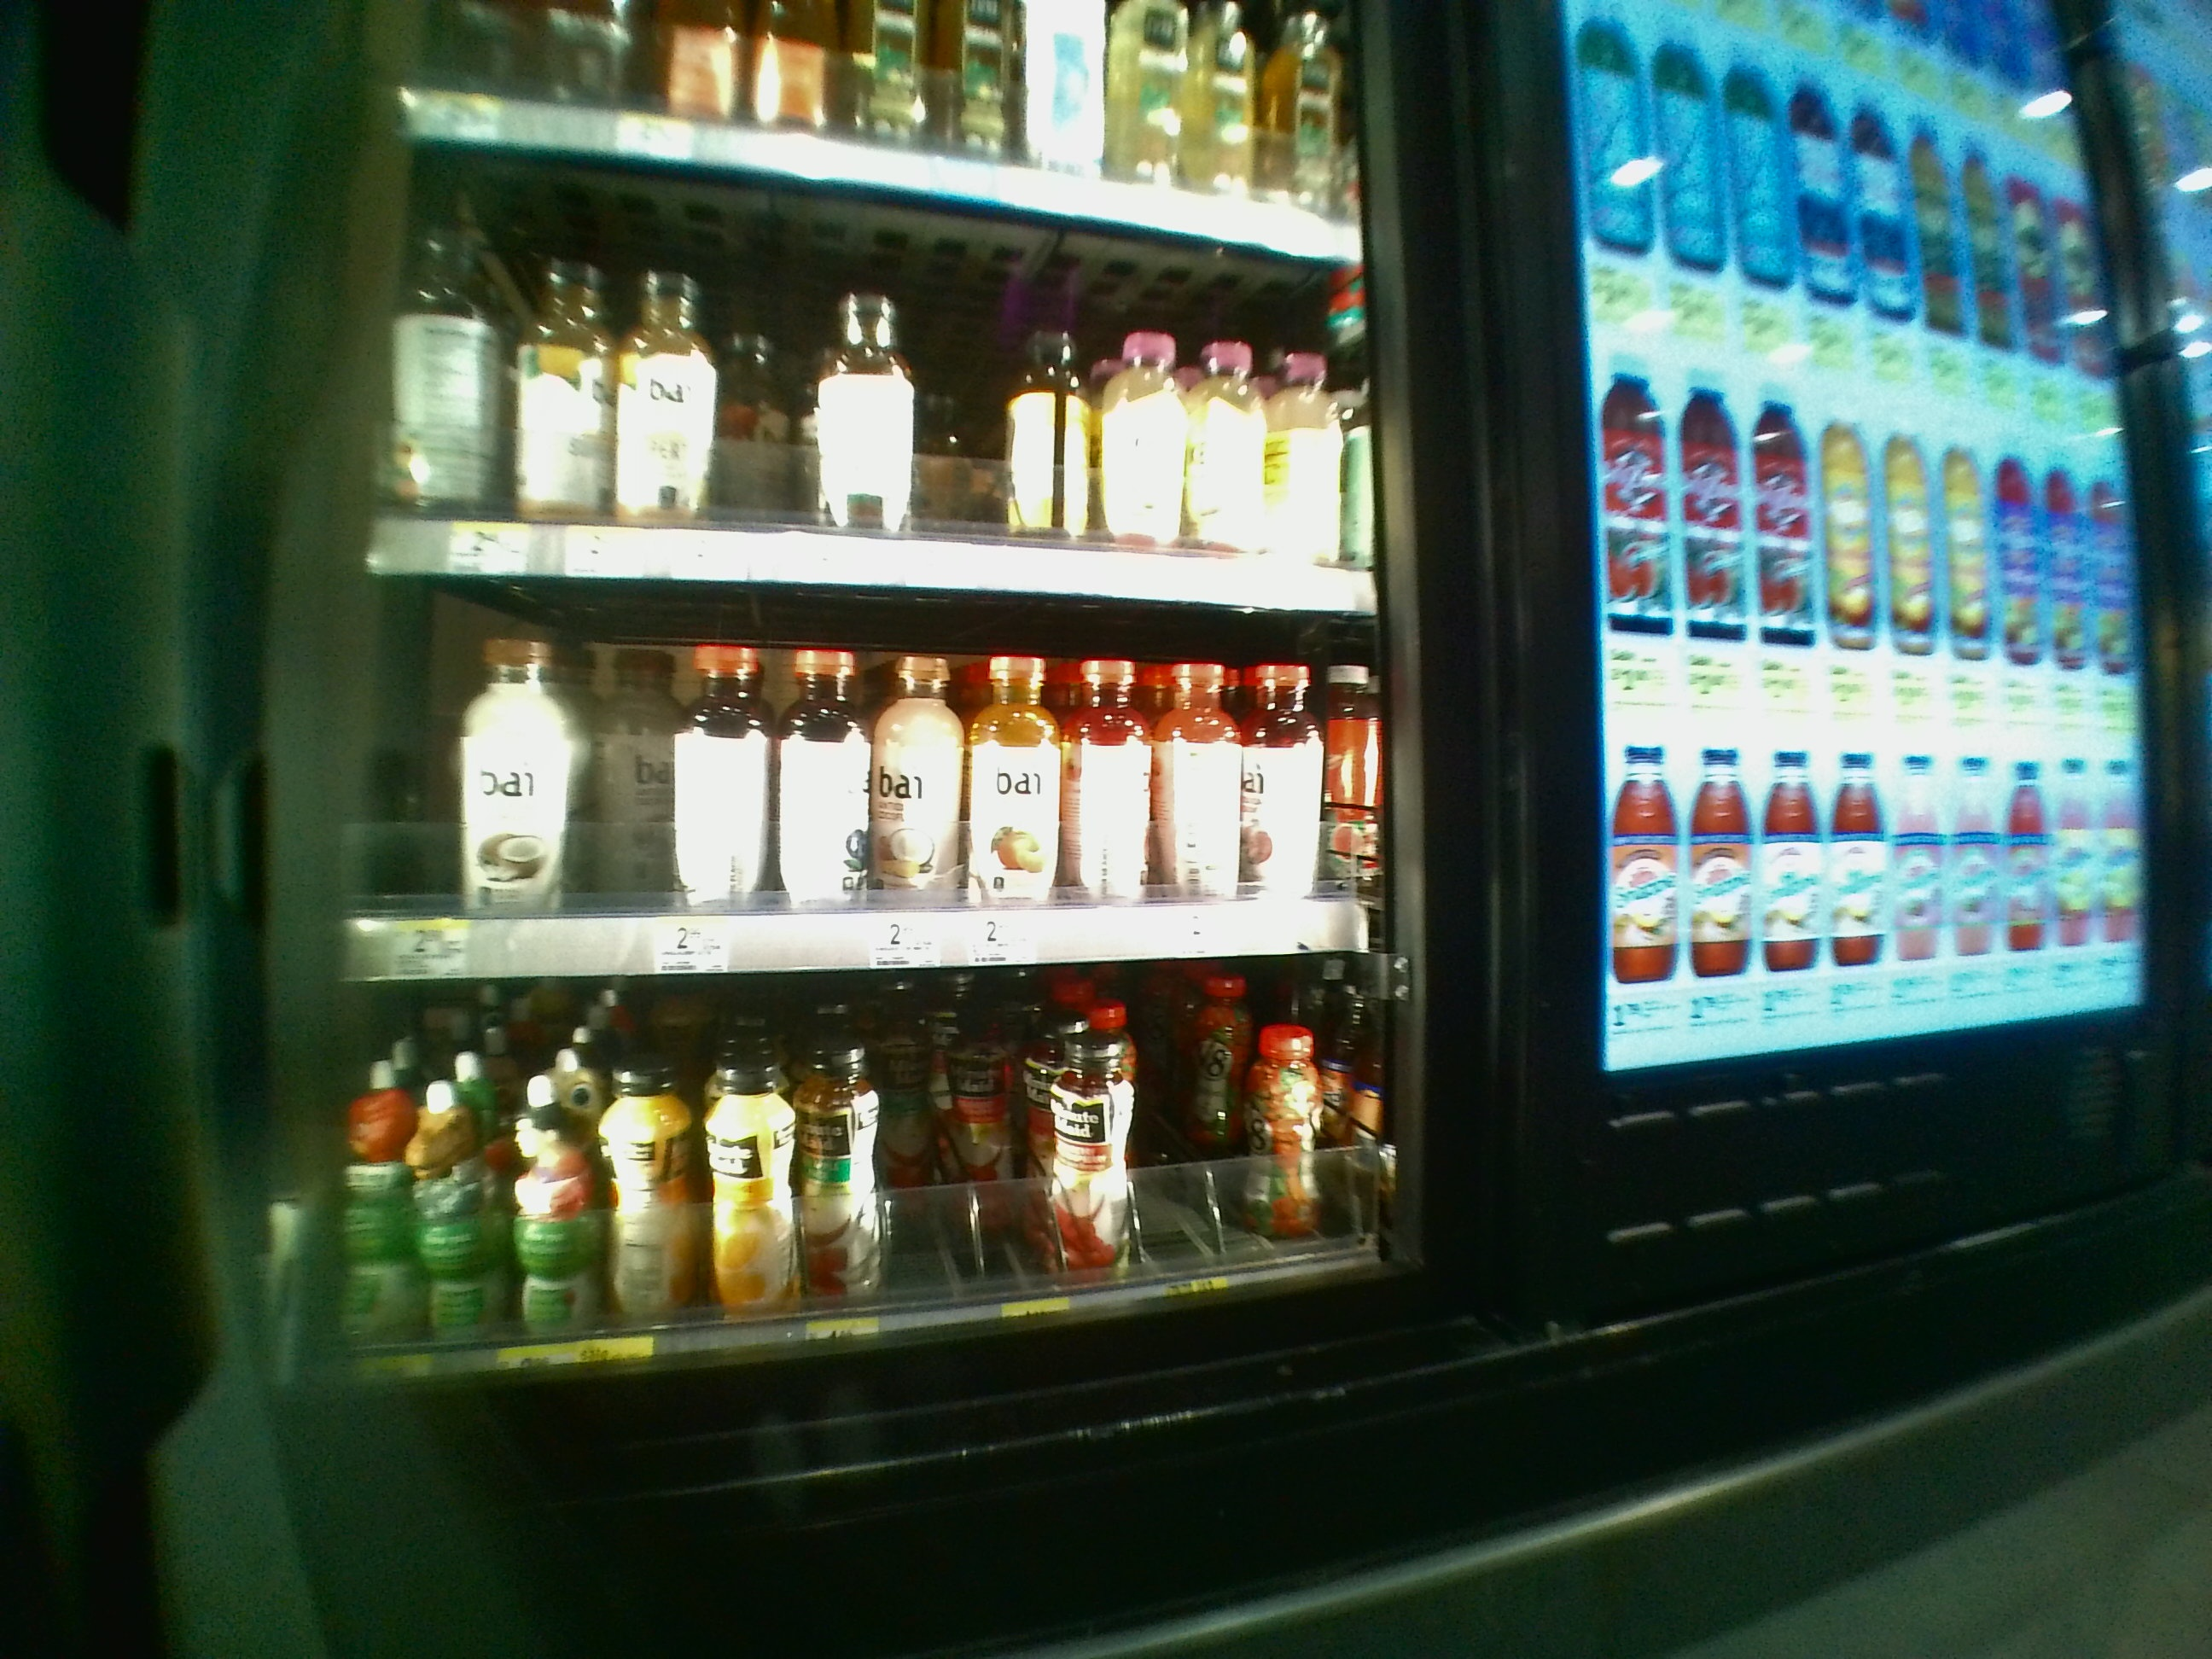shelf: (347, 995, 1404, 1410), (364, 152, 1372, 573), (343, 586, 1379, 985)
